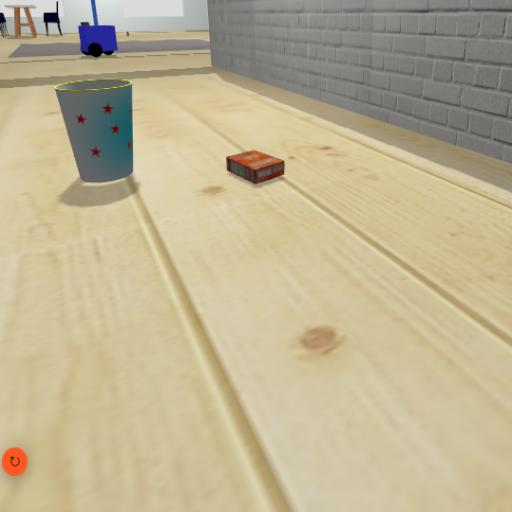BOX_R: (203, 107, 304, 212)
Trash: (37, 70, 170, 204)
